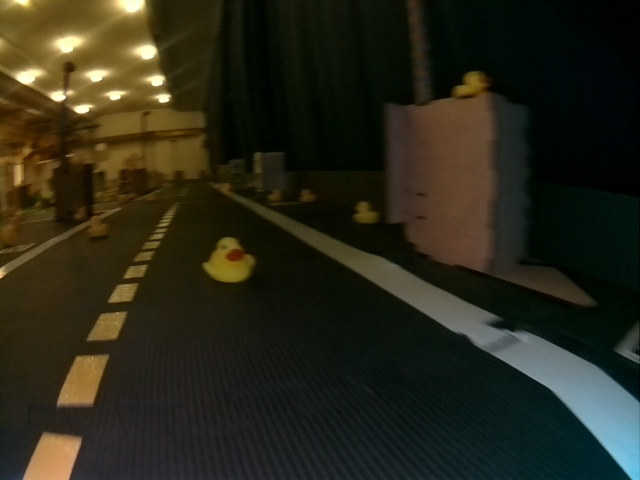Duckie: (204, 237, 252, 282), (455, 68, 481, 99), (85, 214, 108, 237), (353, 200, 373, 223), (299, 187, 313, 204)
